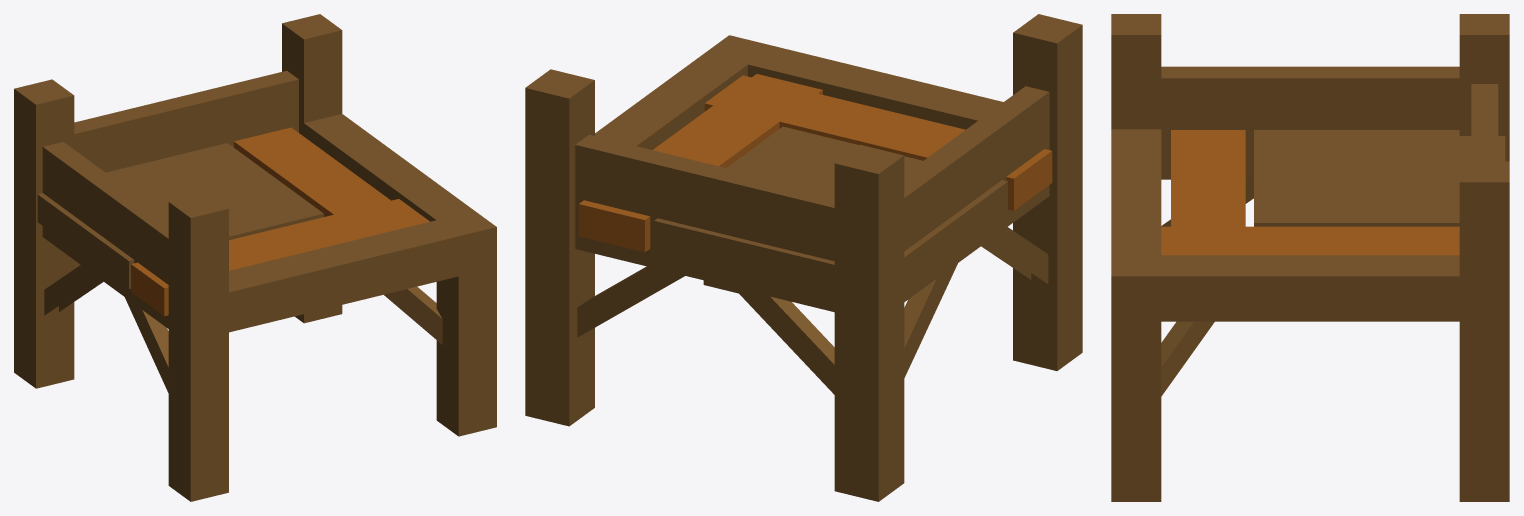
Rendered from ElbowFilled4.fbx.
The picture shows the model from 3 angles, left to right: view 1: azimuth 30°, elevation 25°; view 2: azimuth 150°, elevation 25°; view 3: azimuth 270°, elevation 25°; orthographic projection. The views are drawn at different scales.
Visible parts, largest first — view 1: Bridge - Elbow Filled.001; view 2: Bridge - Elbow Filled.001; view 3: Bridge - Elbow Filled.001.
Boxes of the visible parts, x1=… form: Bridge - Elbow Filled.001: x1=14, y1=14, x2=496, y2=501; Bridge - Elbow Filled.001: x1=525, y1=14, x2=1082, y2=501; Bridge - Elbow Filled.001: x1=1111, y1=14, x2=1509, y2=501.
Size of the model in its own units: 80 by 70.89 by 80.
